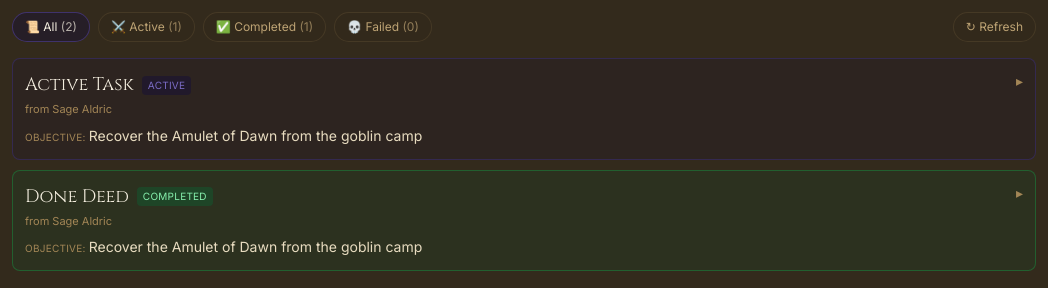
it: QuestLogPanel › filters quests by status using the tabs
Expected: the text "Active Task" is shown, [25, 71, 134, 99]
Expected: the text "Done Deed" is shown, [25, 182, 129, 210]
Click the button "✅ Completed (1)".
click(264, 27)  # box [203, 12, 326, 42]
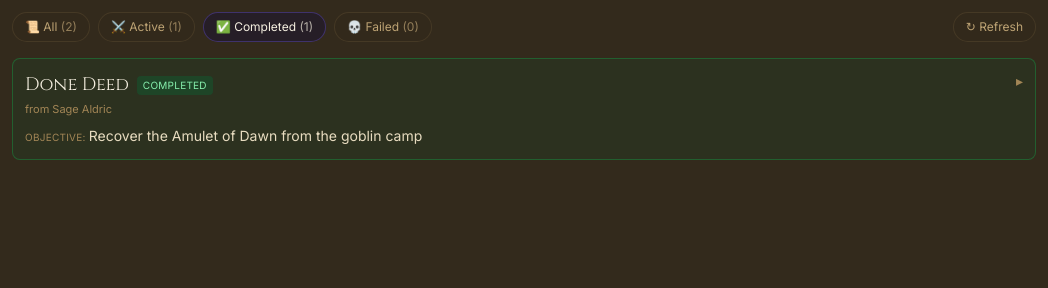
Expected: the text "Done Deed" is shown, [25, 71, 129, 99]
Expected: the button "Active Task" is gone
// Switch to Failed → filtered-empty message appears.
Click the button "💀 Failed (0)".
click(383, 27)  # box [334, 12, 432, 42]
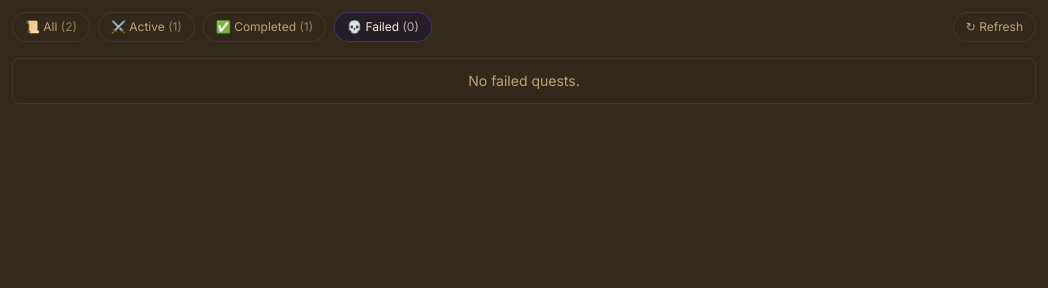
Expected: the text "No failed quests." is shown, [12, 58, 1036, 104]
